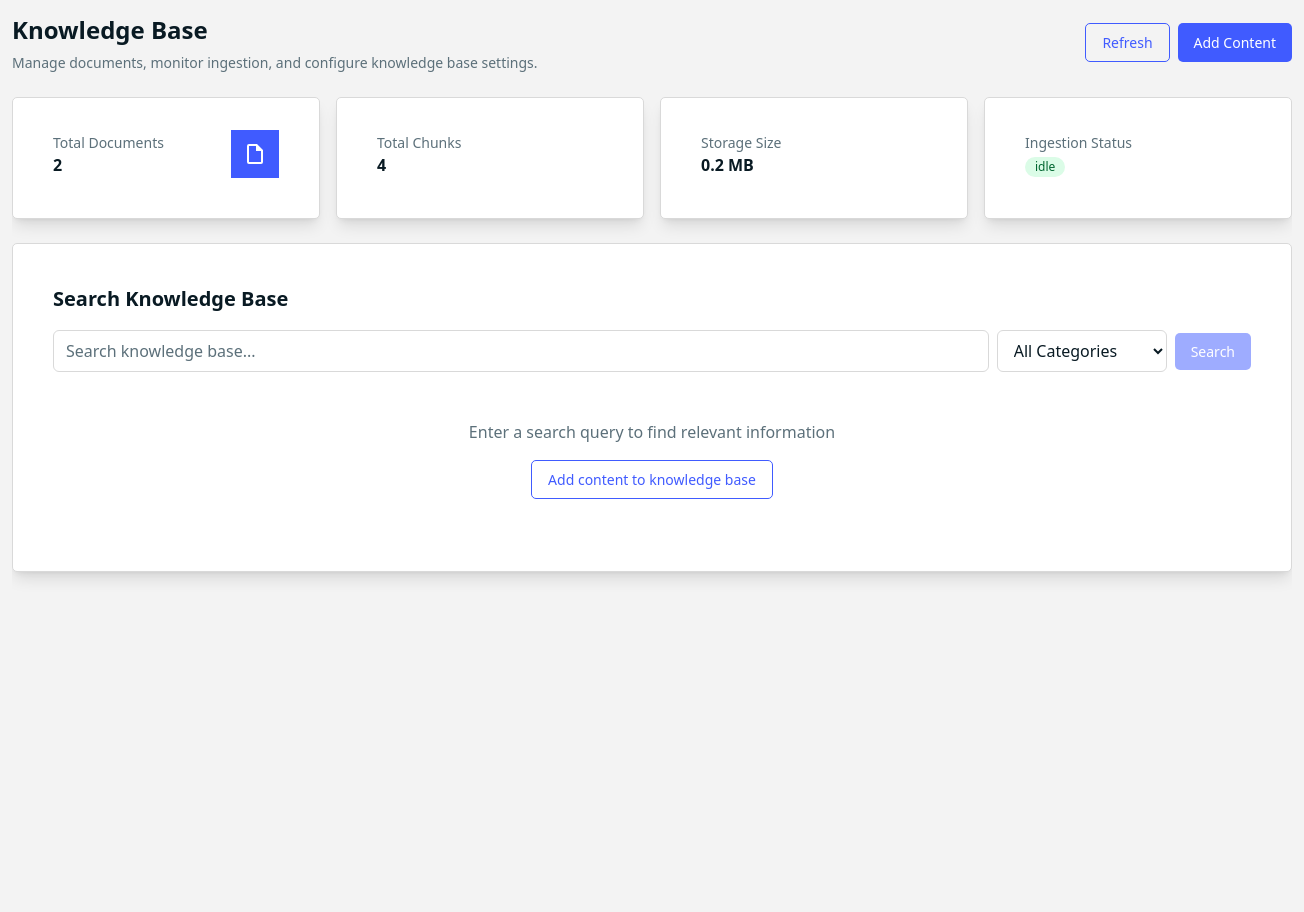
Test case: Knowledge › searches with category filters and renders source/version chunk links
Expected: the heading "Knowledge Base" is shown, [12,13,208,46]
Type "maxmemory" into the field with placeholder "Search knowledge base...". click: (521,351)
box: [53,330,989,372]
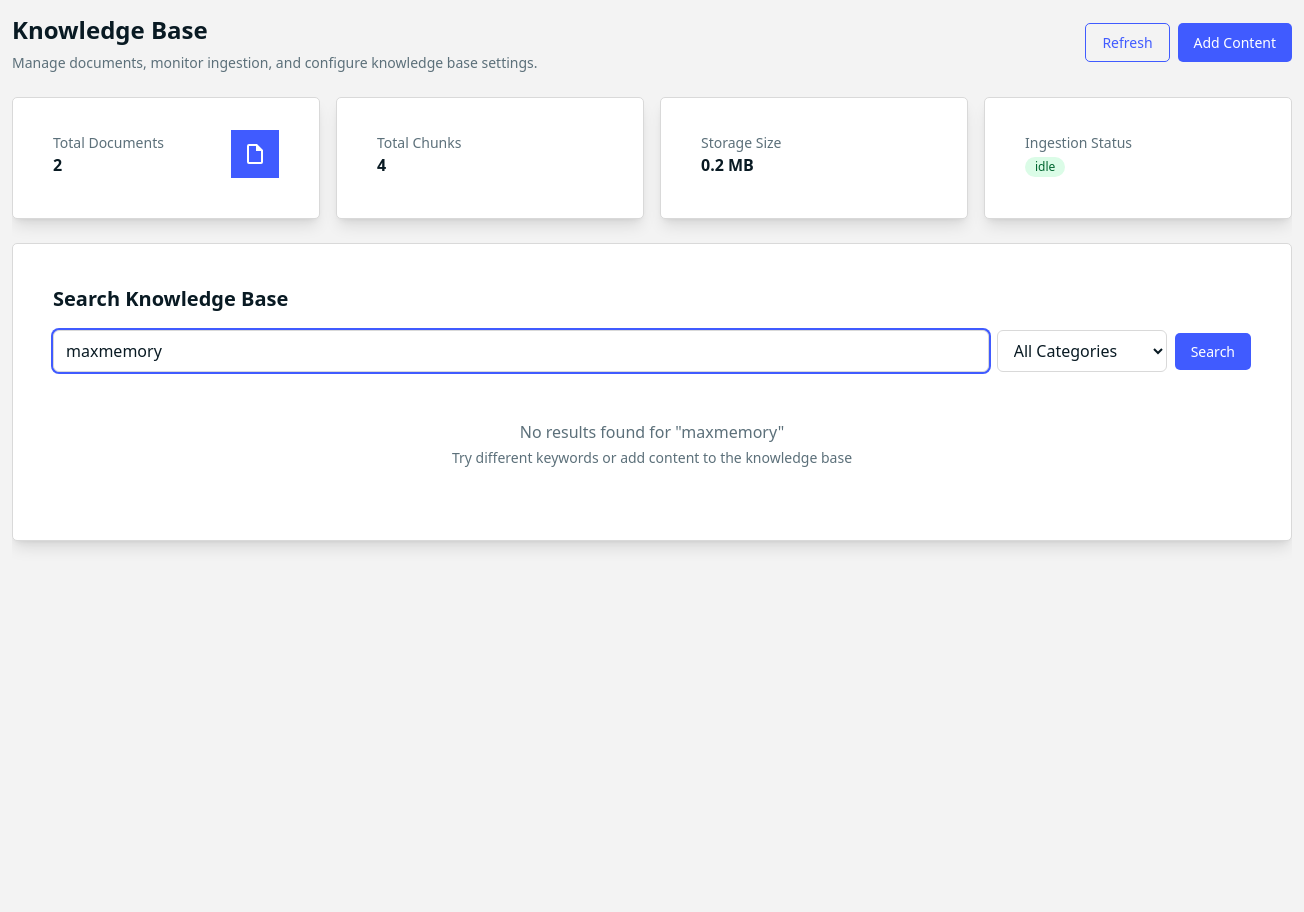
Select "Performance" in the dropdown. click: (1082,351)
box: [997,330,1167,372]
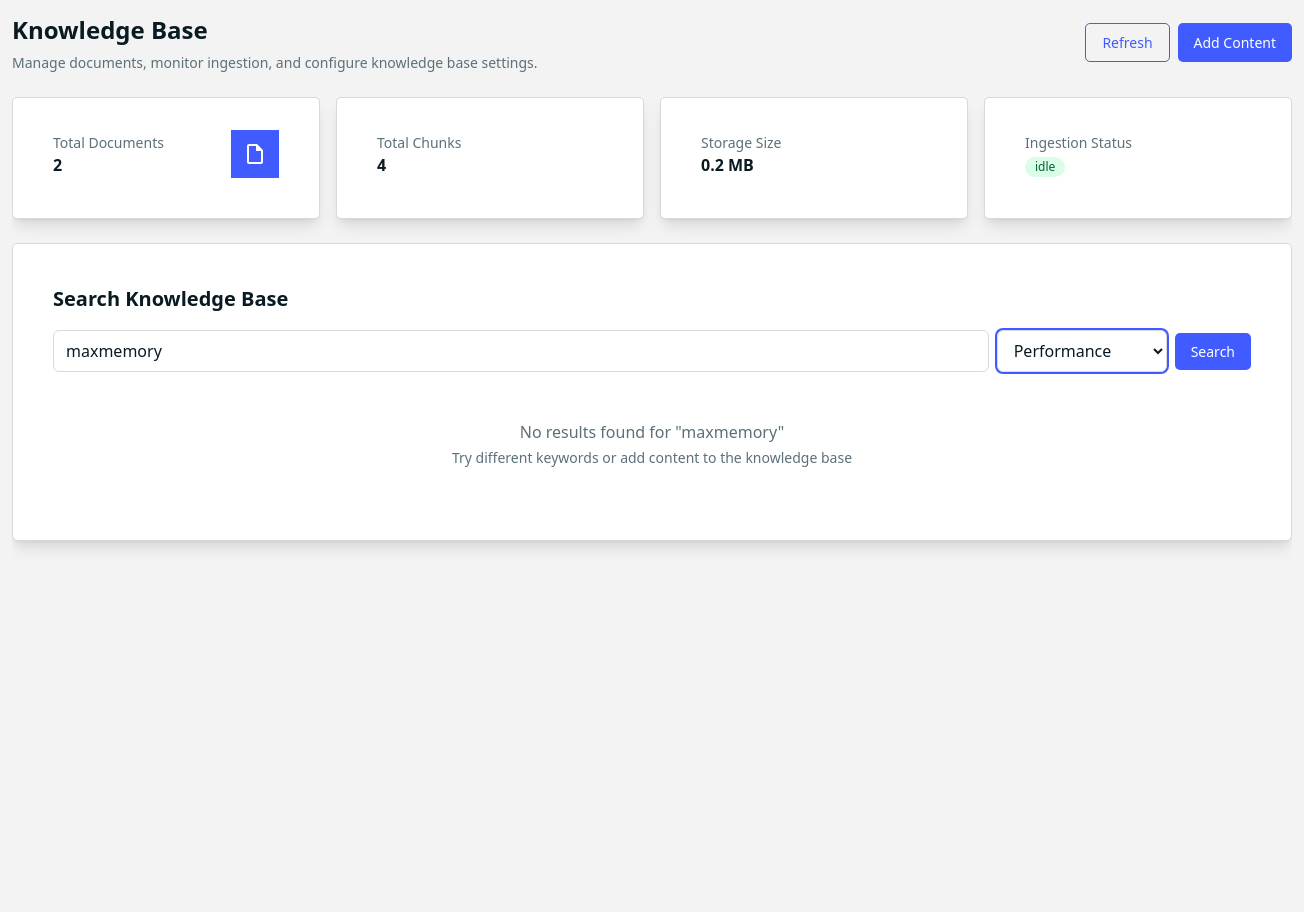
Click the button "Search". click: (1213,351)
box: [1175,332,1251,370]
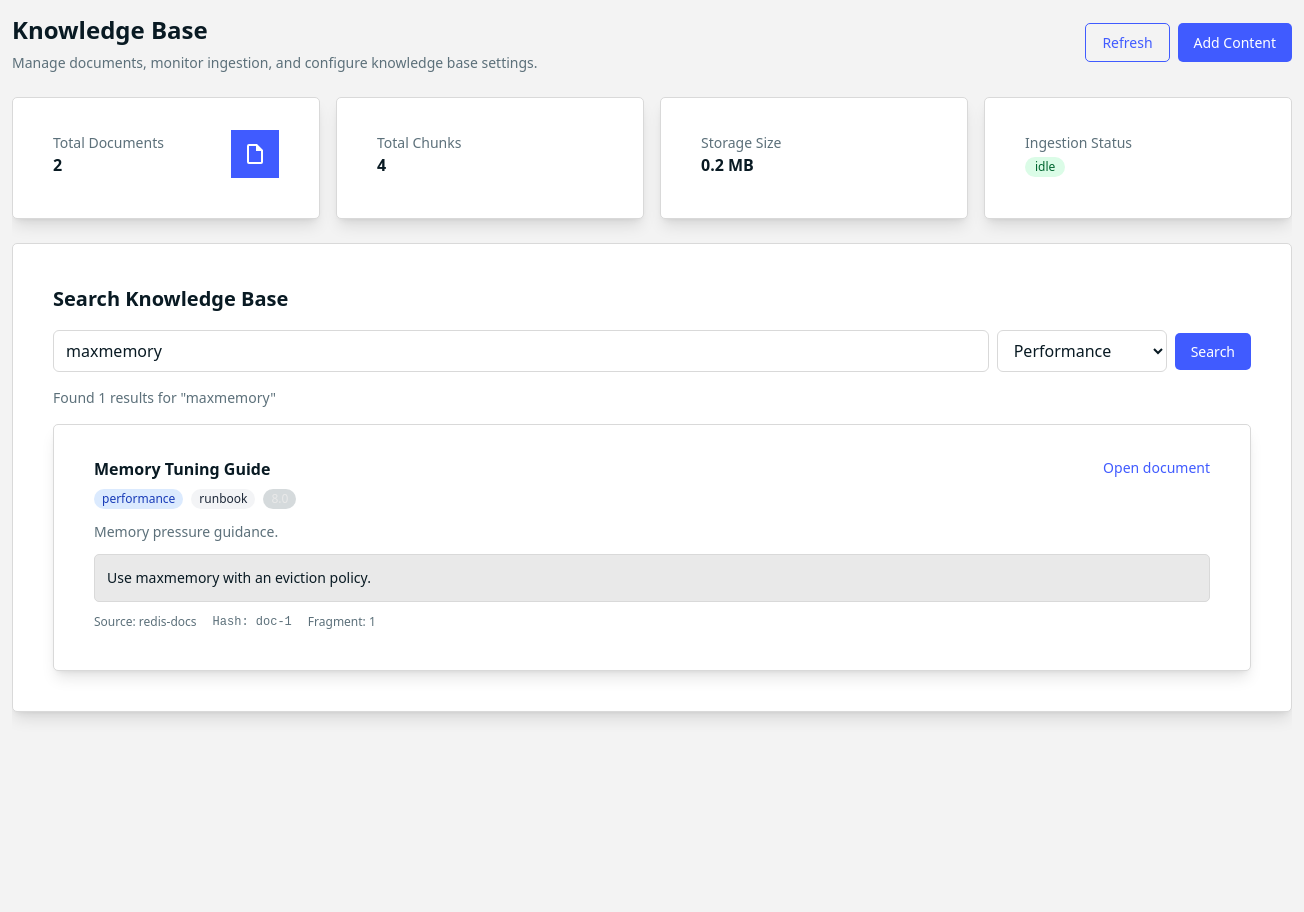
Now the text "Found 1 results for \"maxmemory\"" is shown, box [53,388,276,407]
Now the link "Memory Tuning Guide" is shown, box [94,458,270,480]
Now the text "Source: redis-docs" is shown, box [94,614,197,630]
